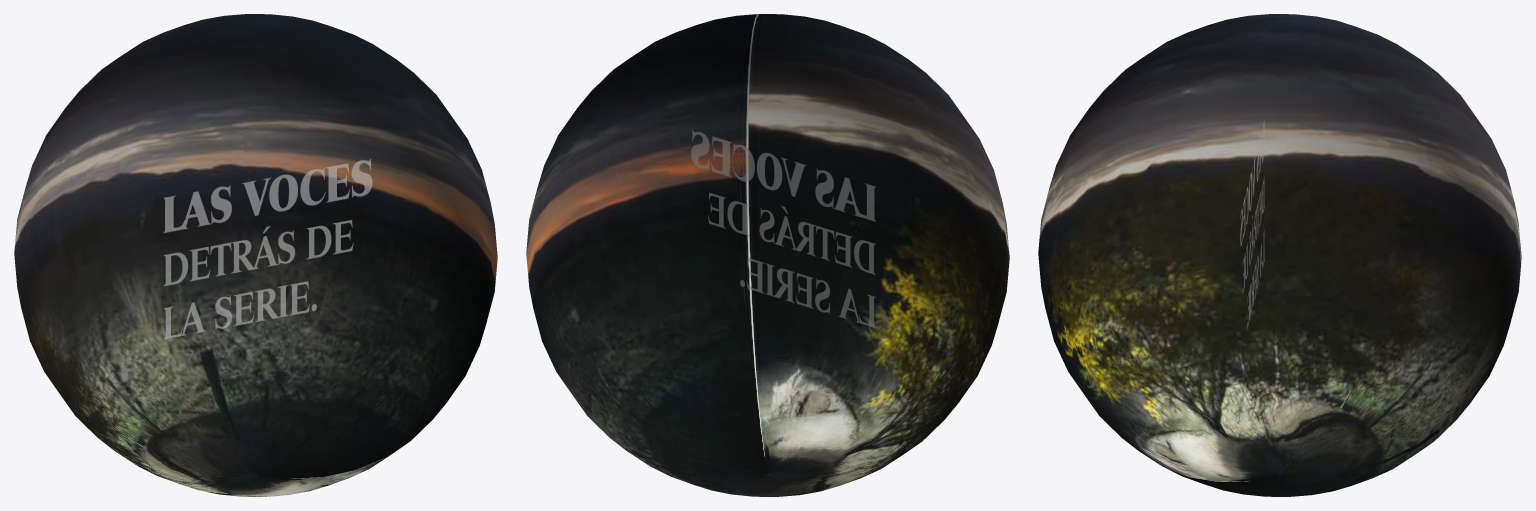
Rendered from esferaN1_01.glb.
The picture shows the model from 3 angles, left to right: view 1: azimuth 30°, elevation 25°; view 2: azimuth 150°, elevation 25°; view 3: azimuth 270°, elevation 25°; orthographic projection.
Parts seen in each view (by area): view 1: Portal1, Plane006; view 2: Portal1, Plane006; view 3: Portal1, Plane006.
Part boxes in pixels (left/top/right/bottom): Portal1: left=14, top=14, right=497, bottom=496; Plane006: left=163, top=159, right=372, bottom=339; Portal1: left=526, top=14, right=1009, bottom=496; Plane006: left=691, top=130, right=875, bottom=327; Portal1: left=1038, top=14, right=1521, bottom=496; Plane006: left=1240, top=120, right=1264, bottom=328.
Size of the model in its own units: 1.68 by 1.69 by 1.69.
2 materials, 2 textured.
